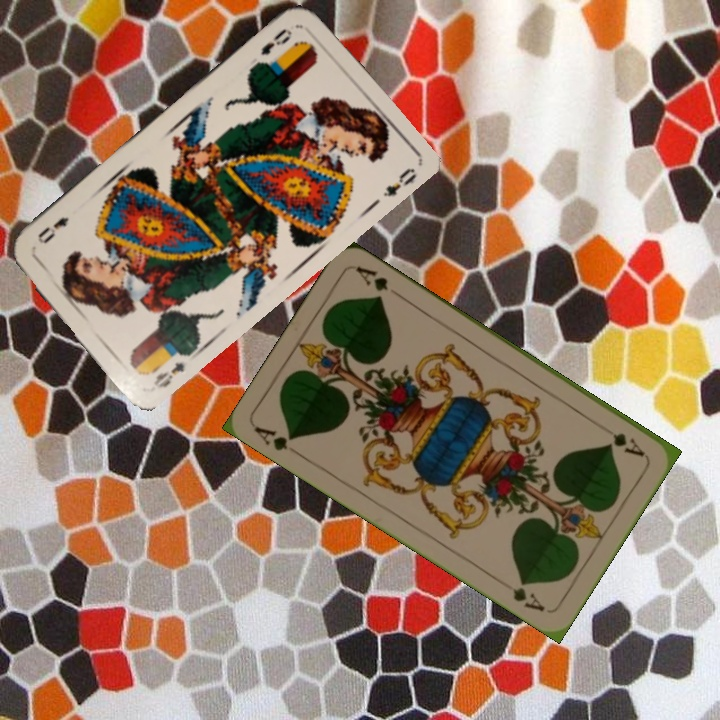EO: (256, 24, 295, 58), (149, 358, 187, 391)
GA: (595, 421, 648, 460), (250, 422, 304, 460)
